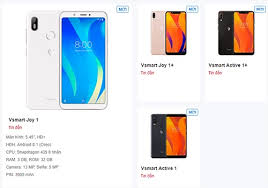vsmart: (24, 6, 109, 112), (149, 9, 189, 57), (150, 112, 189, 161), (217, 8, 257, 55)
